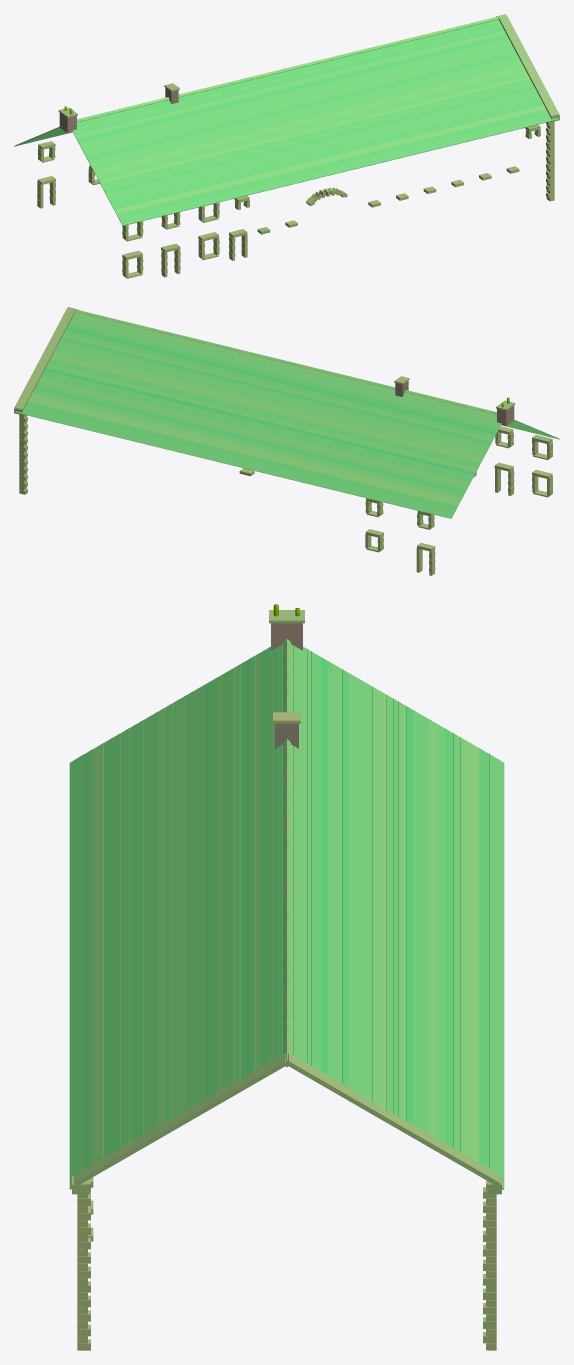
The model's file is SM_Bld_065_Stone.glb.
The picture shows the model from 3 angles, top to bottom: view 1: azimuth 30°, elevation 25°; view 2: azimuth 150°, elevation 25°; view 3: azimuth 270°, elevation 25°; orthographic projection. The views are drawn at different scales.
Visible parts, largest first — view 1: SM_Bld_065_Stone; view 2: SM_Bld_065_Stone; view 3: SM_Bld_065_Stone.
Part boxes in pixels (x1=…): SM_Bld_065_Stone: x1=14, y1=14, x2=559, y2=278; SM_Bld_065_Stone: x1=14, y1=307, x2=559, y2=575; SM_Bld_065_Stone: x1=69, y1=604, x2=504, y2=1350.
Size of the model in its own units: 38.45 by 13.33 by 16.33.
